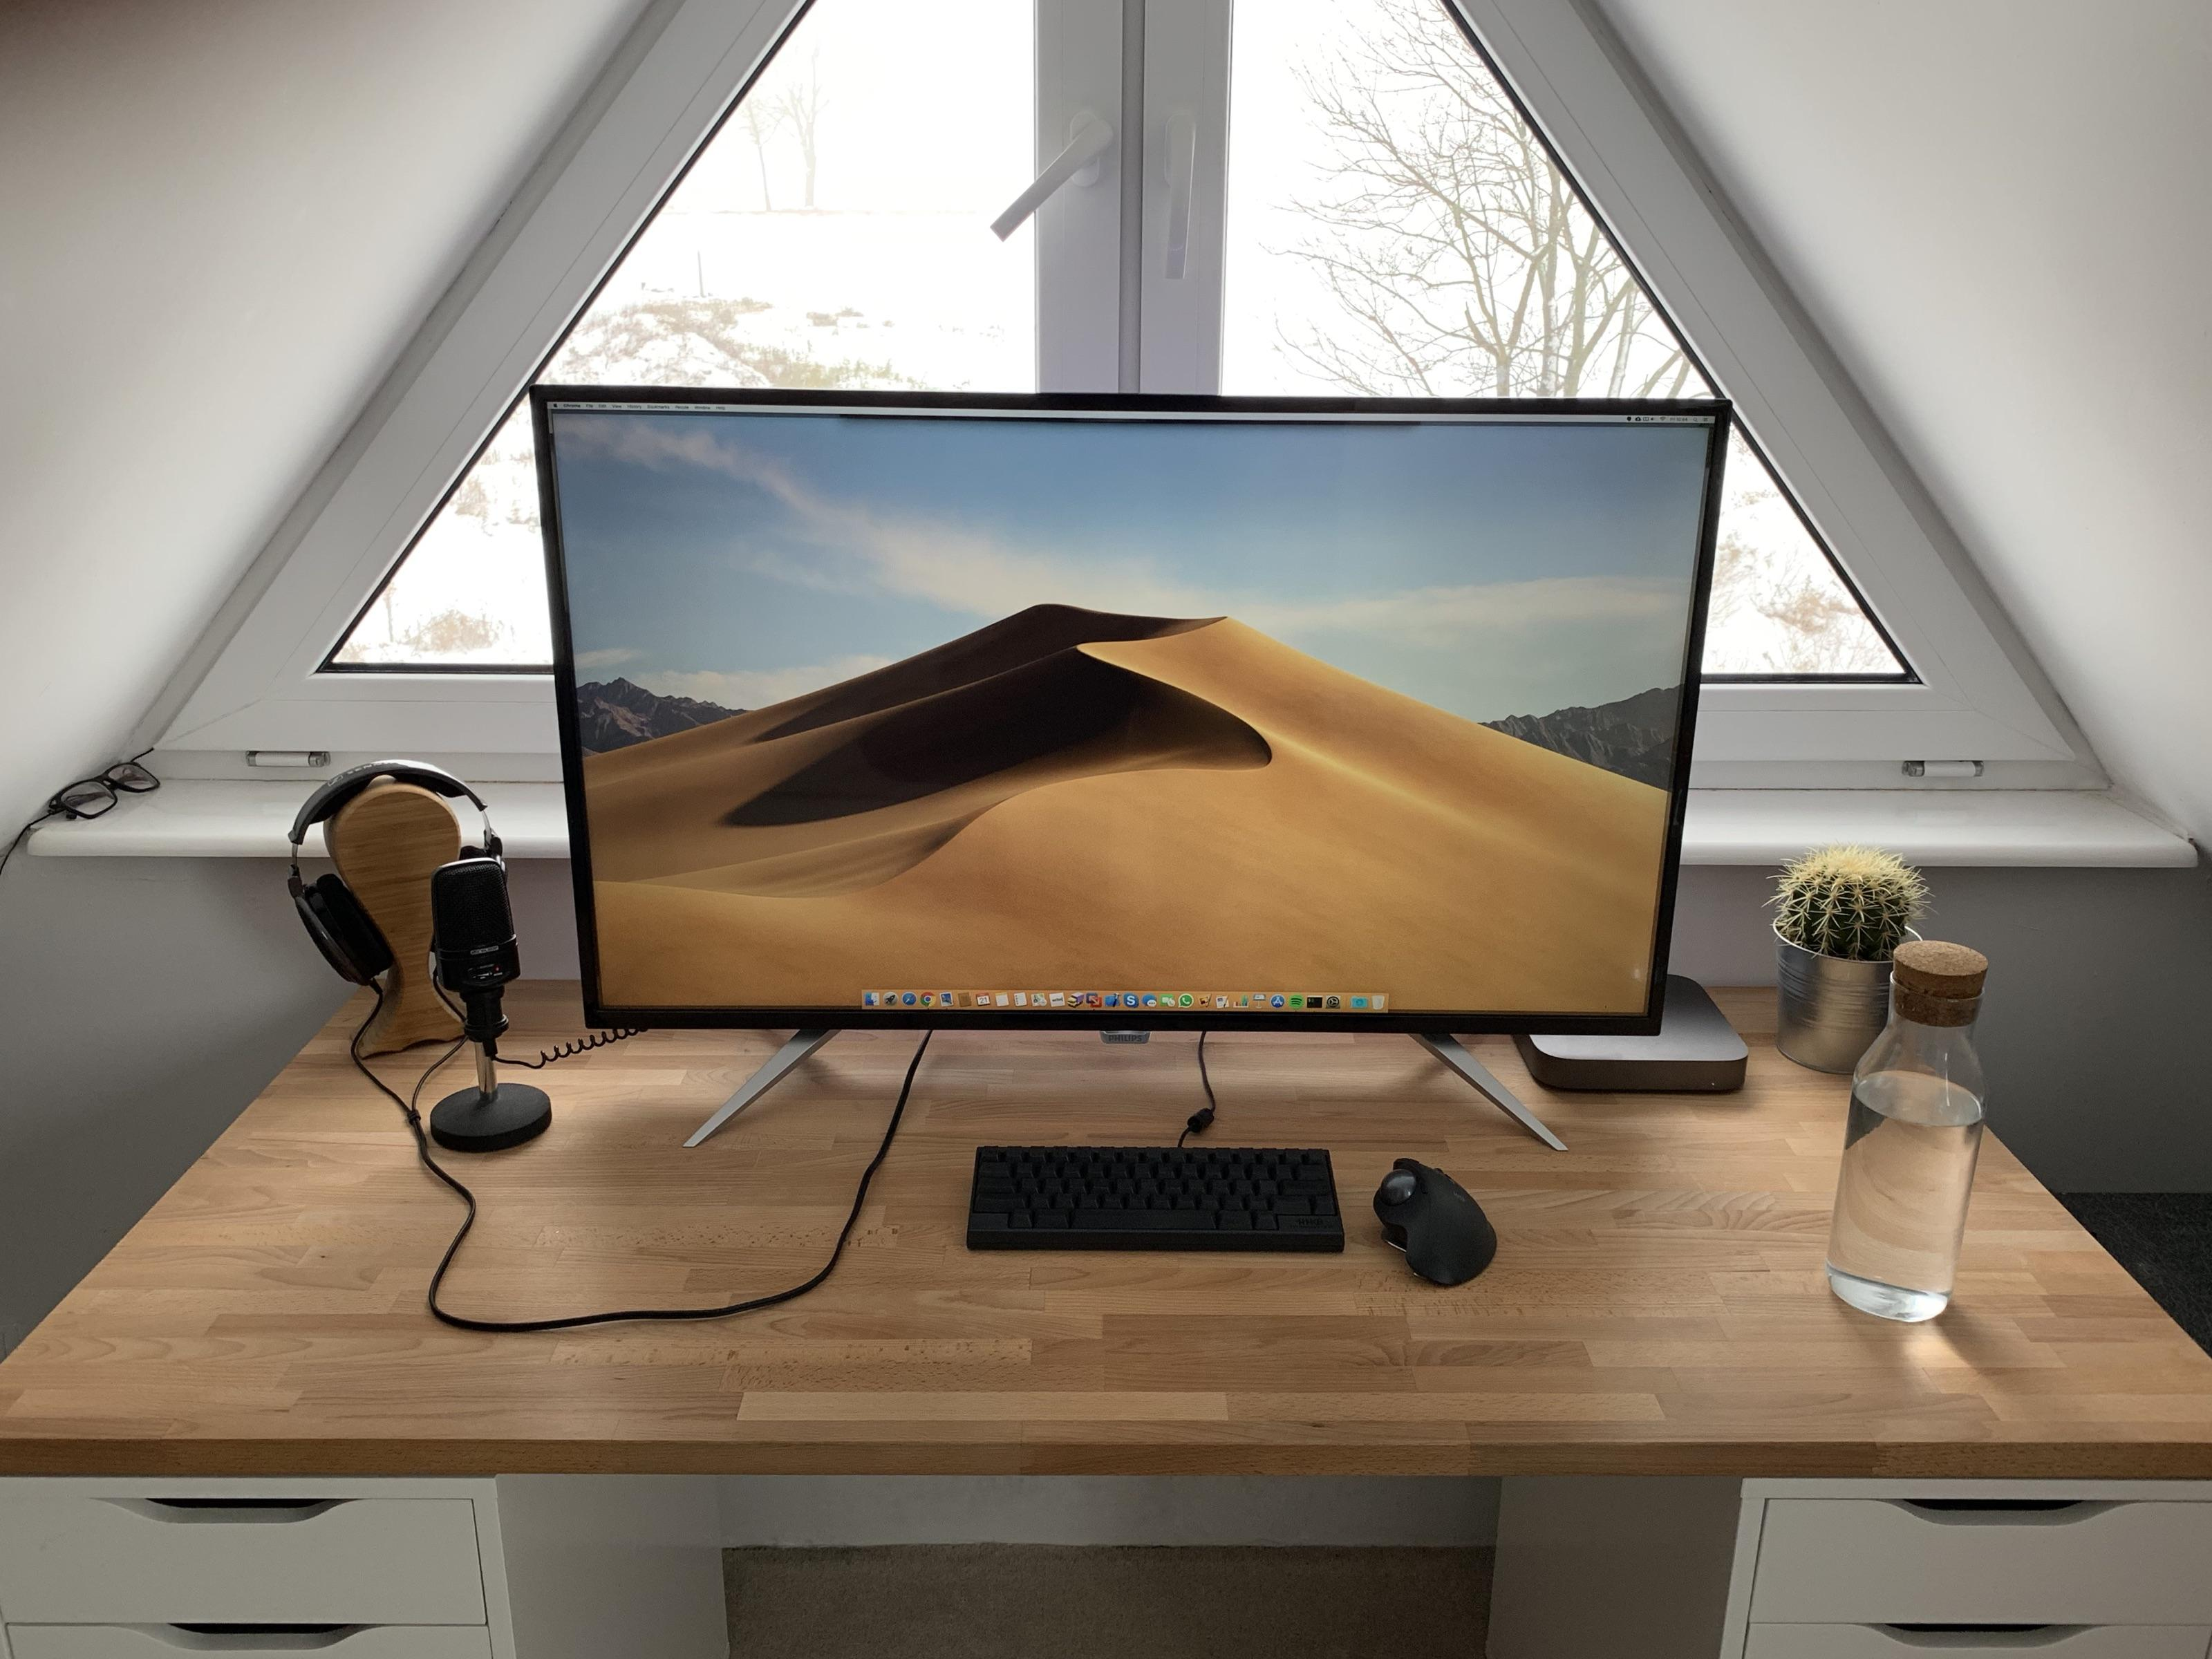Decoration (Plant): (1770, 836, 1926, 1077)
Desk (Generic): (0, 974, 2212, 1471)
Desktop (OSX): (1526, 967, 1754, 1100)
External Microphone (Generic): (420, 857, 552, 1161)
Headphones: (277, 760, 523, 999)
Keyboard (Generic): (949, 1127, 1352, 1265)
Monitor (Landscape): (529, 383, 1733, 1026)
Mouse (Ergonomic): (1379, 1143, 1536, 1307)
Storage Drawer: (0, 1457, 730, 1659), (1482, 1457, 2212, 1659)
Water Bottle: (1817, 934, 1993, 1358)
